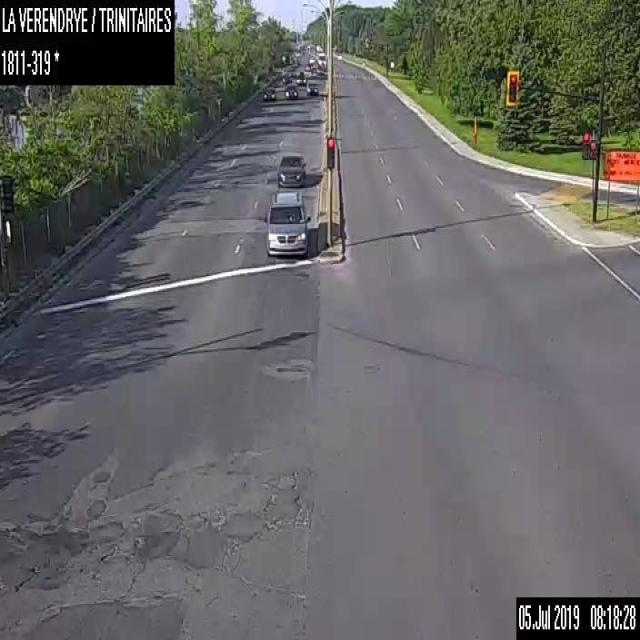vehicle: (264, 191, 311, 256), (276, 152, 306, 187), (283, 82, 298, 99), (262, 85, 276, 102), (314, 51, 326, 69), (305, 80, 319, 94), (282, 73, 292, 84), (296, 74, 306, 84), (305, 61, 313, 70), (308, 55, 314, 64)
